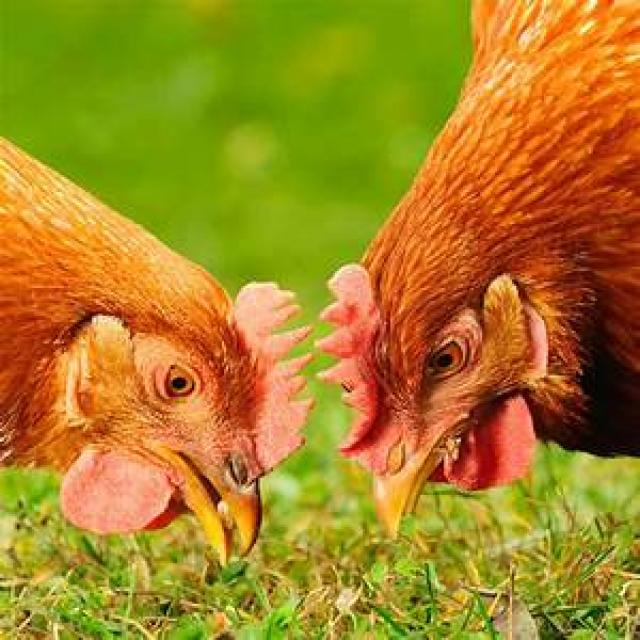hen: (321, 0, 640, 533), (321, 0, 640, 531), (0, 139, 309, 557)
